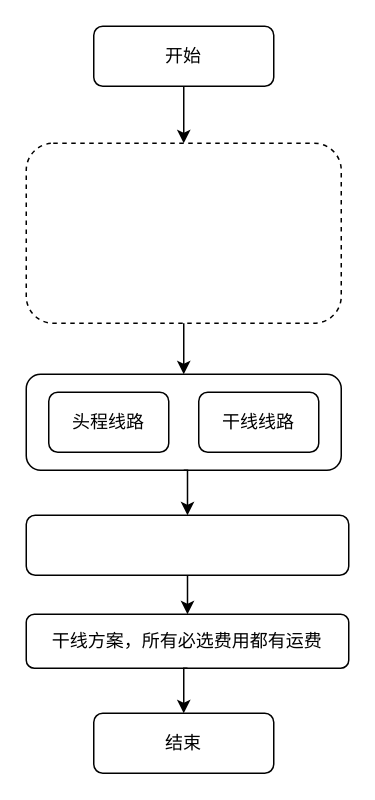
Image size: 375x800. Some labels were removed from this diagram. The shapes that lost their labels are listed below. From the top down, each one's box as (x1, y1, x2, y2) in pixels, then its label:
(25, 142, 341, 323): 组网路由
(25, 514, 349, 575): 头程方案，所有必选费用都有运费
